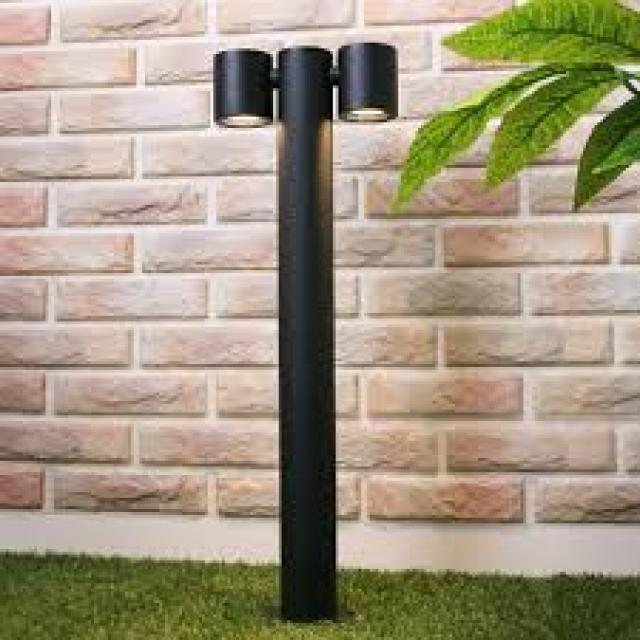bollard: (201, 35, 408, 640)
